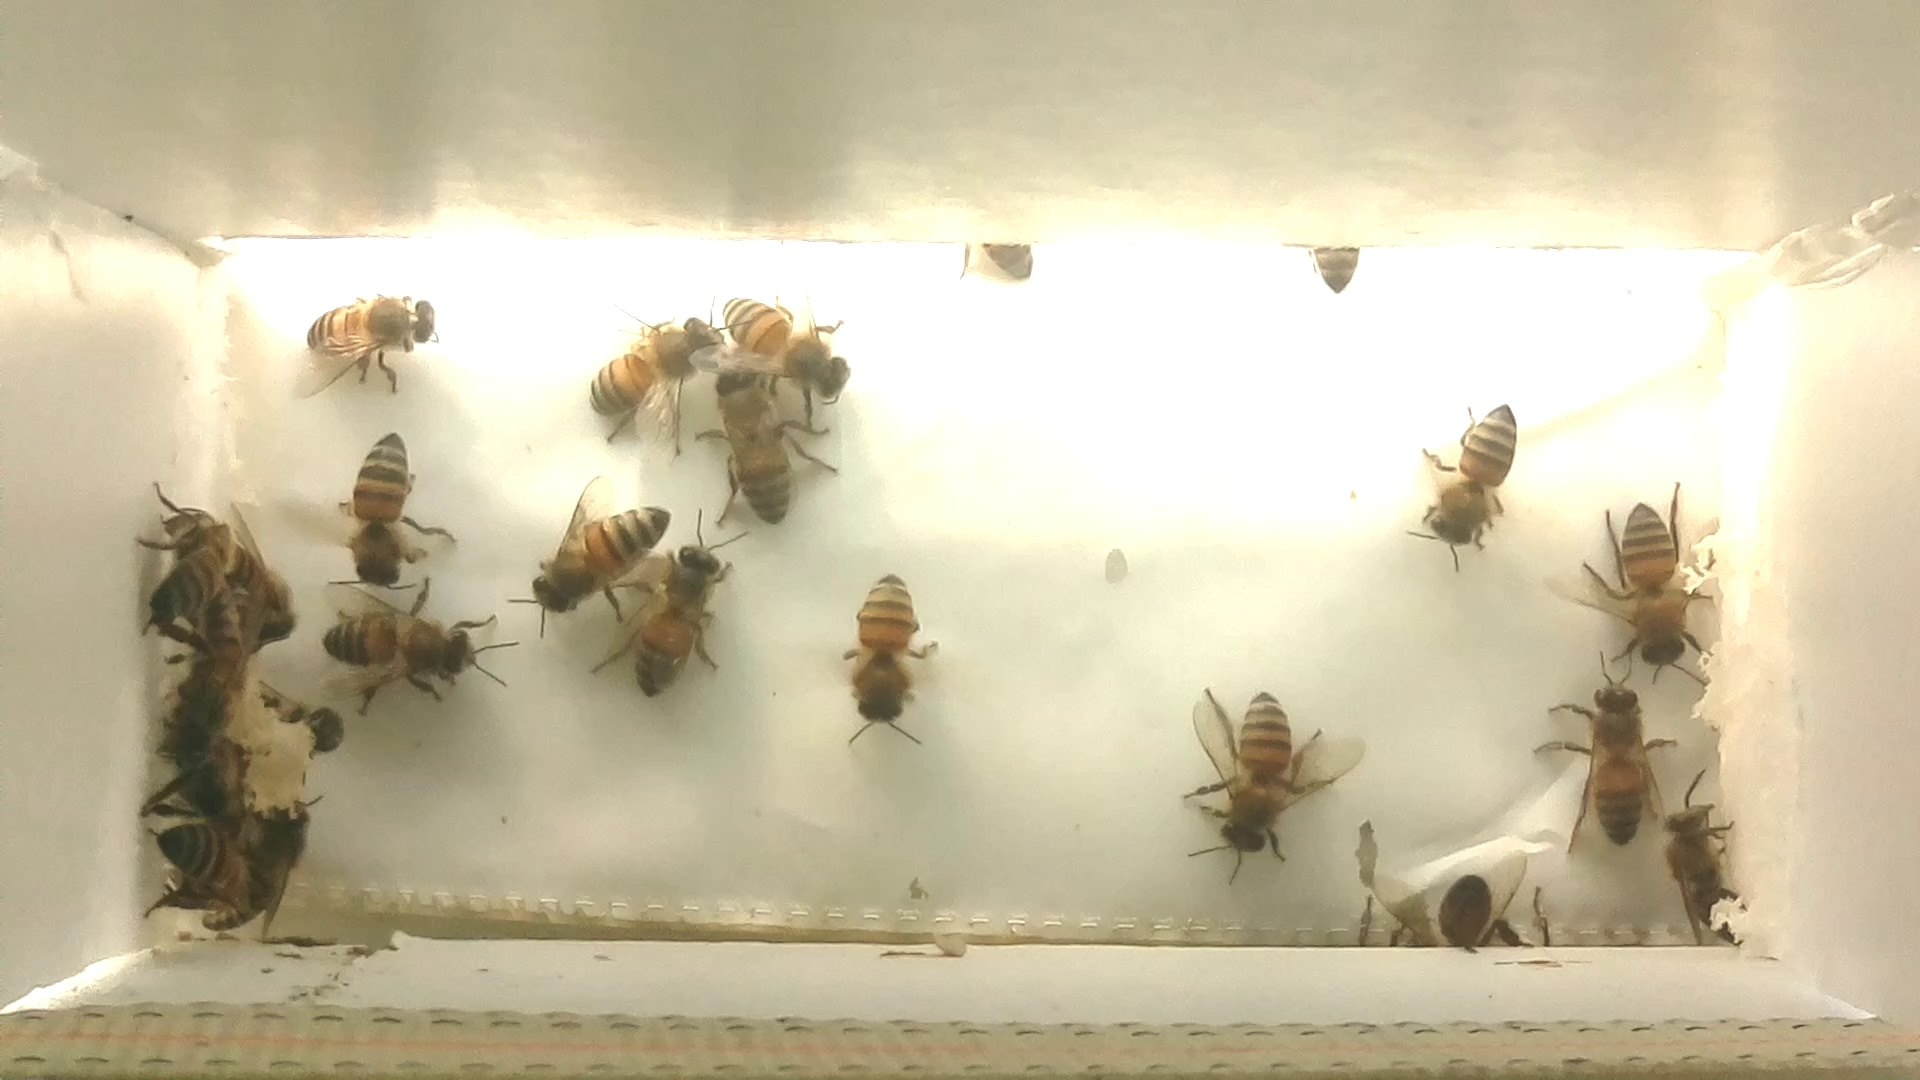bee: (1163, 655, 1367, 874), (1578, 468, 1734, 705), (1531, 641, 1688, 853), (293, 410, 468, 596), (804, 559, 960, 767), (596, 516, 750, 724), (558, 280, 738, 456), (306, 574, 520, 721), (688, 353, 847, 549), (1400, 371, 1528, 583), (518, 477, 680, 630), (709, 274, 862, 435), (285, 274, 454, 410), (1651, 781, 1770, 957), (119, 485, 247, 632), (127, 794, 274, 920), (1400, 855, 1557, 961), (136, 695, 255, 811), (955, 229, 1065, 298), (1288, 229, 1379, 305)
